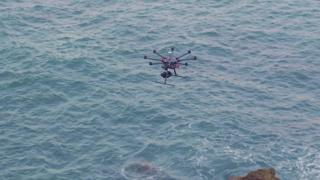UAV: (144, 48, 198, 86)
